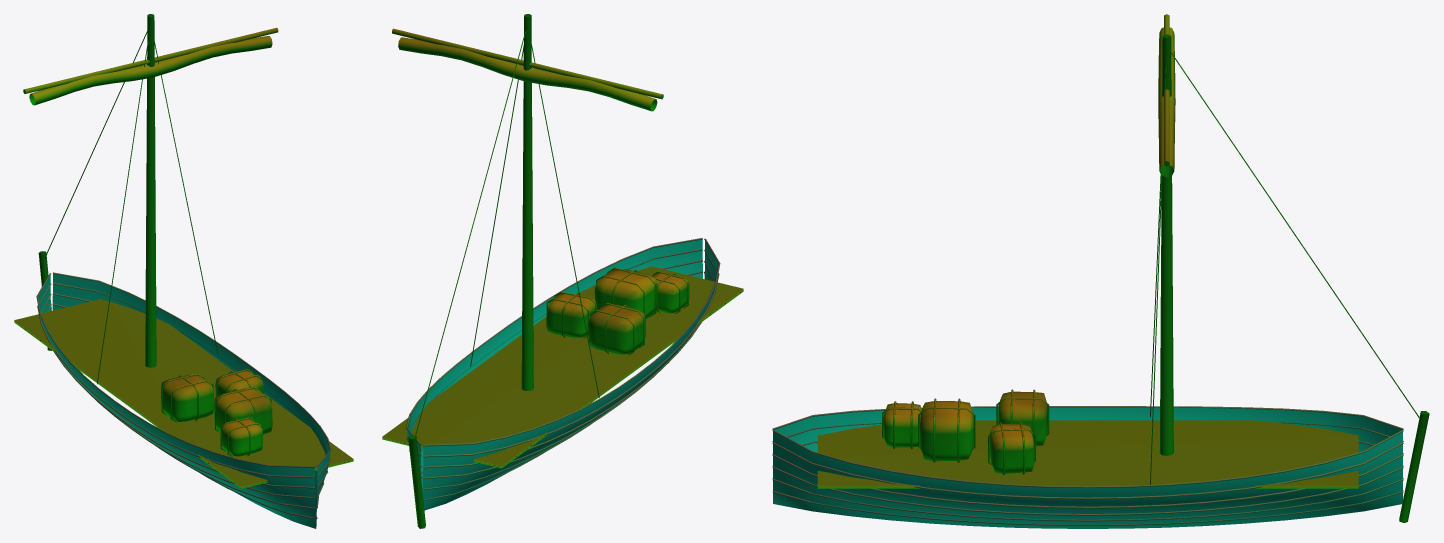
Rendered from trader_boat.glb.
The picture shows the model from 3 angles, left to right: view 1: azimuth 30°, elevation 25°; view 2: azimuth 150°, elevation 25°; view 3: azimuth 270°, elevation 25°; orthographic projection. The views are drawn at different scales.
Parts seen in each view (by area): view 1: trader_boat; view 2: trader_boat; view 3: trader_boat.
Part boxes in pixels (x1,y1,x2,y2): trader_boat: (14,14,353,528); trader_boat: (382,14,743,528); trader_boat: (772,14,1429,528).
Size of what is drawn, in the model's own units: 6.4 by 9.87 by 12.1.
